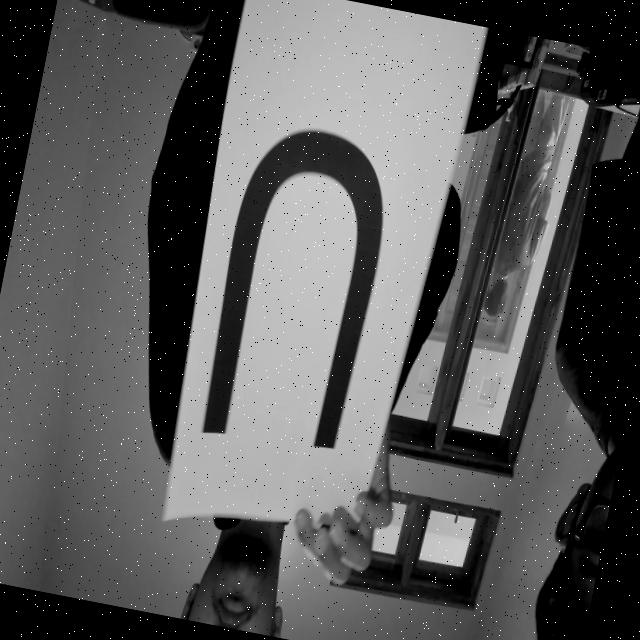u: (173, 106, 414, 487)
